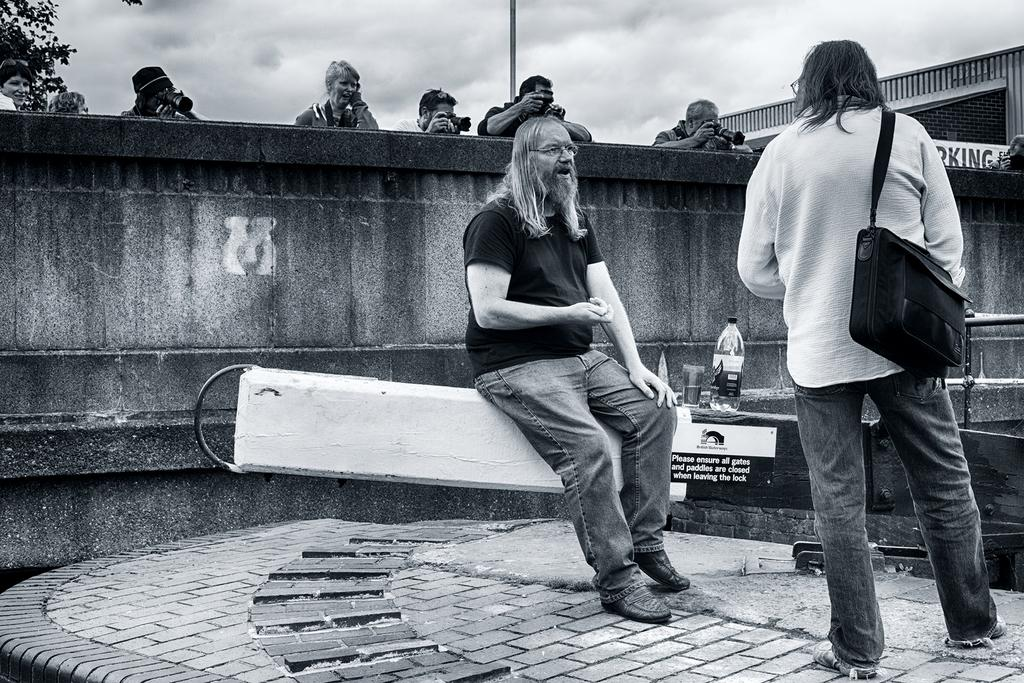Luggage-and-bags: (847, 105, 973, 379)
